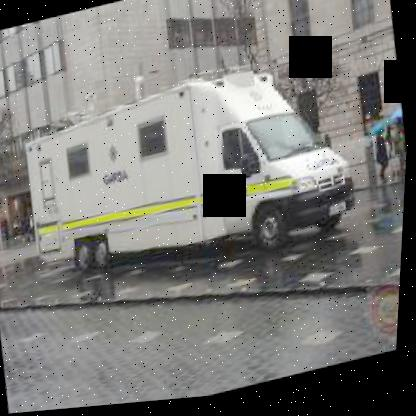emergency: (6, 27, 374, 314)
